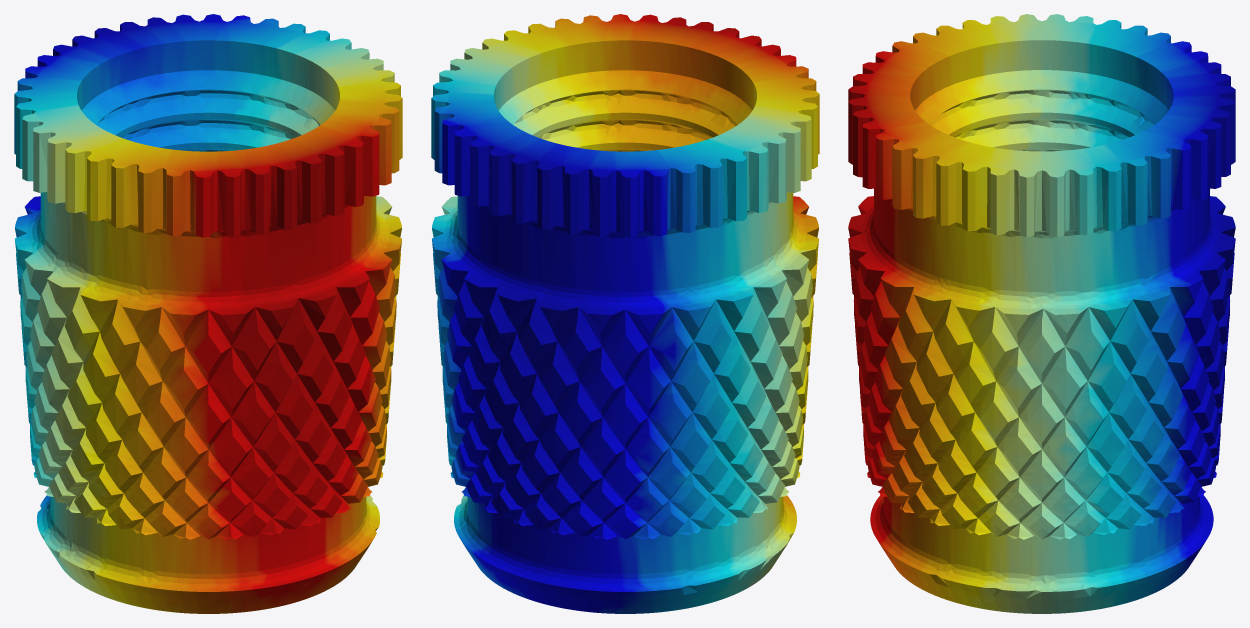
File: fastener_ours.glb
3 views of the same model, side by side, from view 1: azimuth 30°, elevation 25°; view 2: azimuth 150°, elevation 25°; view 3: azimuth 270°, elevation 25° (orthographic).
Visible parts, largest first — view 1: genus_1.obj; view 2: genus_1.obj; view 3: genus_1.obj.
Part boxes in pixels (x1,y1,x2,y2): genus_1.obj: (14,14,402,613); genus_1.obj: (431,14,819,613); genus_1.obj: (848,14,1235,613).
Size of the model in its own units: 1.19 by 1.54 by 1.19.
